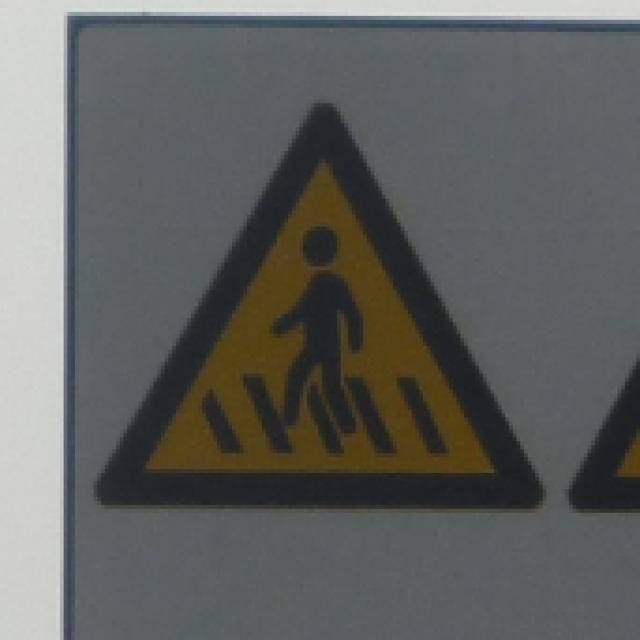Crossing: (74, 86, 566, 524)
